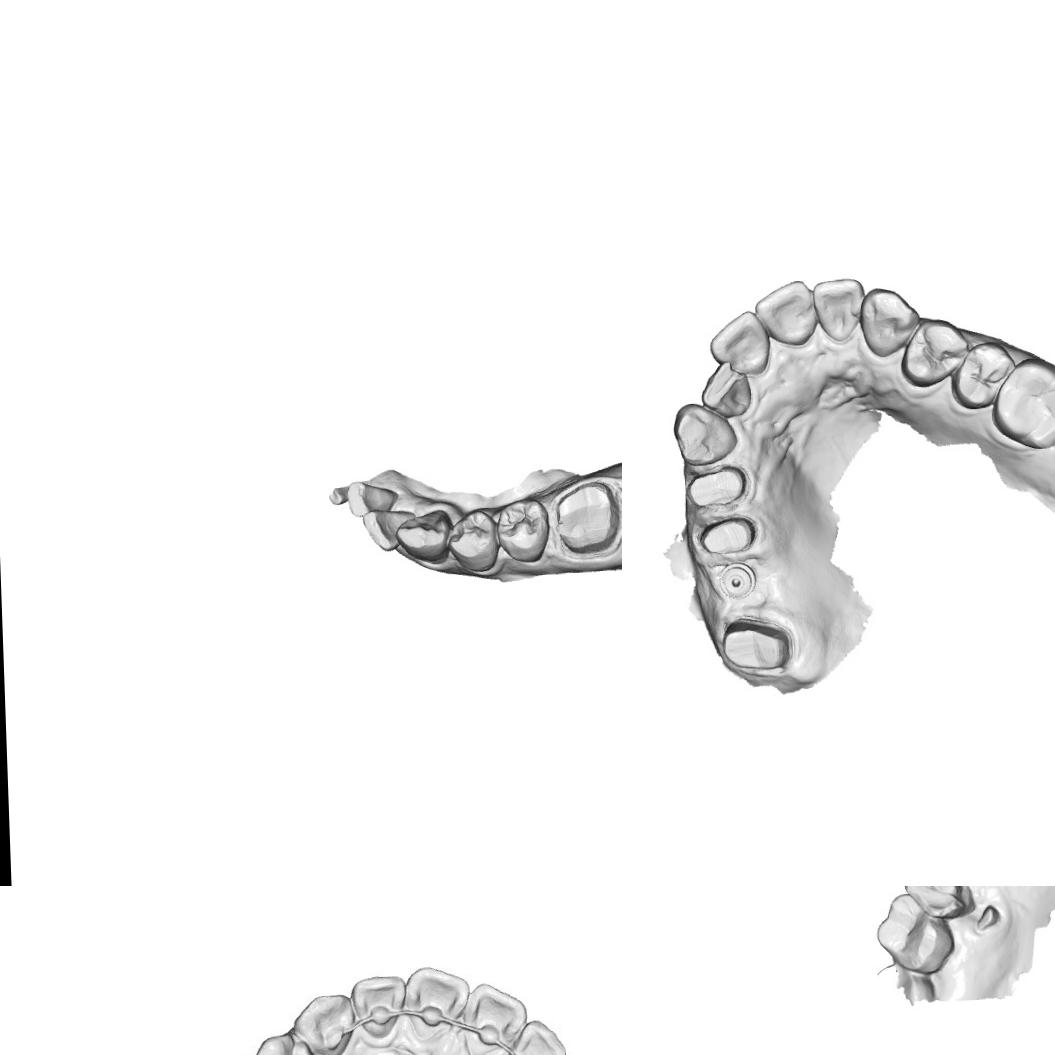canine: (857, 284, 924, 358), (671, 400, 740, 468), (298, 992, 356, 1054), (393, 509, 453, 565)
crown: (548, 474, 622, 558), (716, 611, 802, 676), (682, 461, 755, 512), (696, 509, 764, 560)
implant: (718, 560, 758, 602)
incisor: (752, 278, 819, 350), (706, 308, 772, 377), (404, 964, 468, 1032), (461, 982, 523, 1050), (811, 274, 867, 344), (353, 973, 410, 1040), (696, 358, 754, 420), (362, 507, 418, 552), (346, 479, 399, 518), (511, 1021, 561, 1055)
molar: (874, 890, 956, 976), (987, 355, 1055, 451), (900, 886, 975, 920)
premolar: (898, 317, 972, 387), (948, 340, 1018, 412), (495, 497, 552, 564), (444, 507, 500, 573), (254, 1032, 318, 1055)
